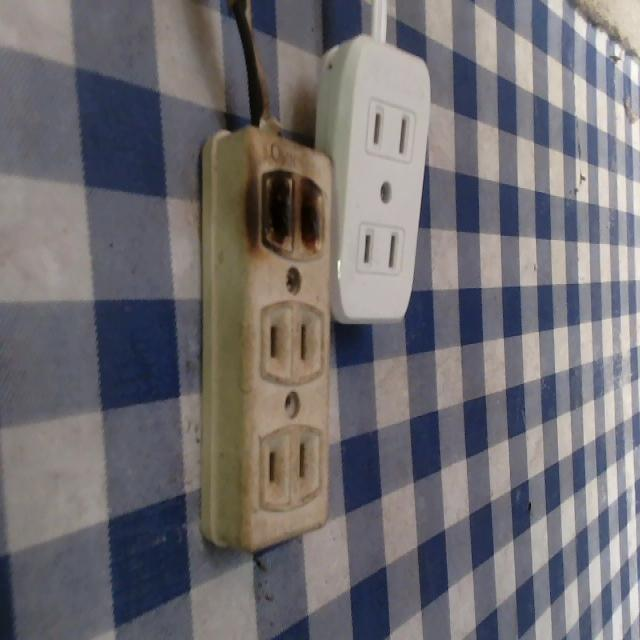-: (230, 145, 345, 268)
